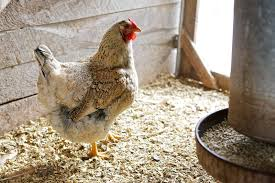chicken: (26, 13, 143, 165)
